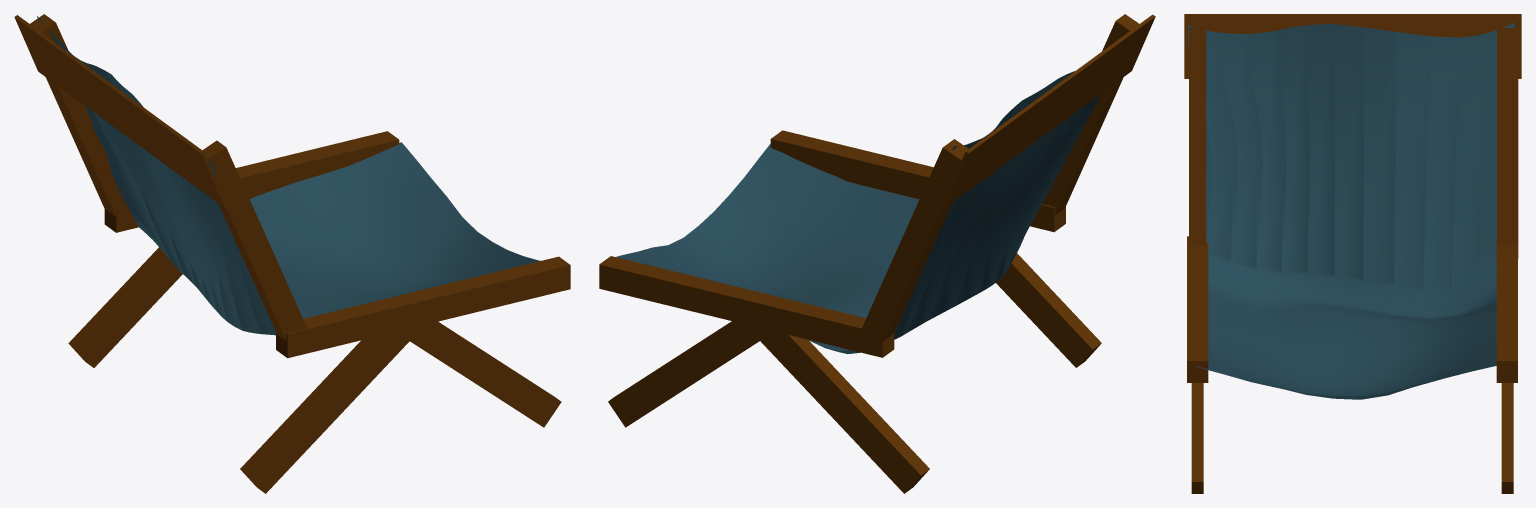
The model's file is Beach_Chair.fbx.
The picture shows the model from 3 angles, left to right: view 1: azimuth 30°, elevation 25°; view 2: azimuth 150°, elevation 25°; view 3: azimuth 270°, elevation 25°; orthographic projection. The views are drawn at different scales.
Parts seen in each view (by area): view 1: Plane, Cube, Cube.004, Cube.007, Cube.002, Cube.008, Cube.001, Cube.009, Cube.003; view 2: Plane, Cube.001, Cube.004, Cube.009, Cube.003, Cube, Cube.010, Cube.007, Cube.002; view 3: Plane, Cube.004, Cube.003, Cube.002, Cube, Cube.001, Cube.008, Cube.010.
Boxes of the visible parts, bbox=[...] form: Plane: bbox=[37, 16, 540, 335]; Cube: bbox=[276, 256, 570, 358]; Cube.004: bbox=[14, 15, 227, 207]; Cube.007: bbox=[240, 326, 421, 493]; Cube.002: bbox=[202, 140, 306, 340]; Cube.008: bbox=[410, 321, 561, 427]; Cube.001: bbox=[104, 131, 399, 232]; Cube.009: bbox=[68, 247, 182, 367]; Cube.003: bbox=[30, 14, 126, 216]; Plane: bbox=[616, 71, 1101, 354]; Cube.001: bbox=[599, 256, 894, 357]; Cube.004: bbox=[942, 14, 1155, 207]; Cube.009: bbox=[747, 325, 929, 493]; Cube.003: bbox=[857, 139, 968, 353]; Cube: bbox=[770, 130, 1065, 232]; Cube.010: bbox=[608, 321, 759, 427]; Cube.007: bbox=[996, 253, 1101, 367]; Cube.002: bbox=[1042, 14, 1138, 215]; Plane: bbox=[1188, 22, 1514, 399]; Cube.004: bbox=[1184, 14, 1521, 78]; Cube.003: bbox=[1497, 27, 1518, 258]; Cube.002: bbox=[1189, 27, 1206, 245]; Cube: bbox=[1187, 236, 1208, 382]; Cube.001: bbox=[1496, 241, 1517, 382]; Cube.008: bbox=[1191, 383, 1203, 493]; Cube.010: bbox=[1501, 383, 1513, 493].
Bounding box in the file's own units: 259 × 240 × 224.
